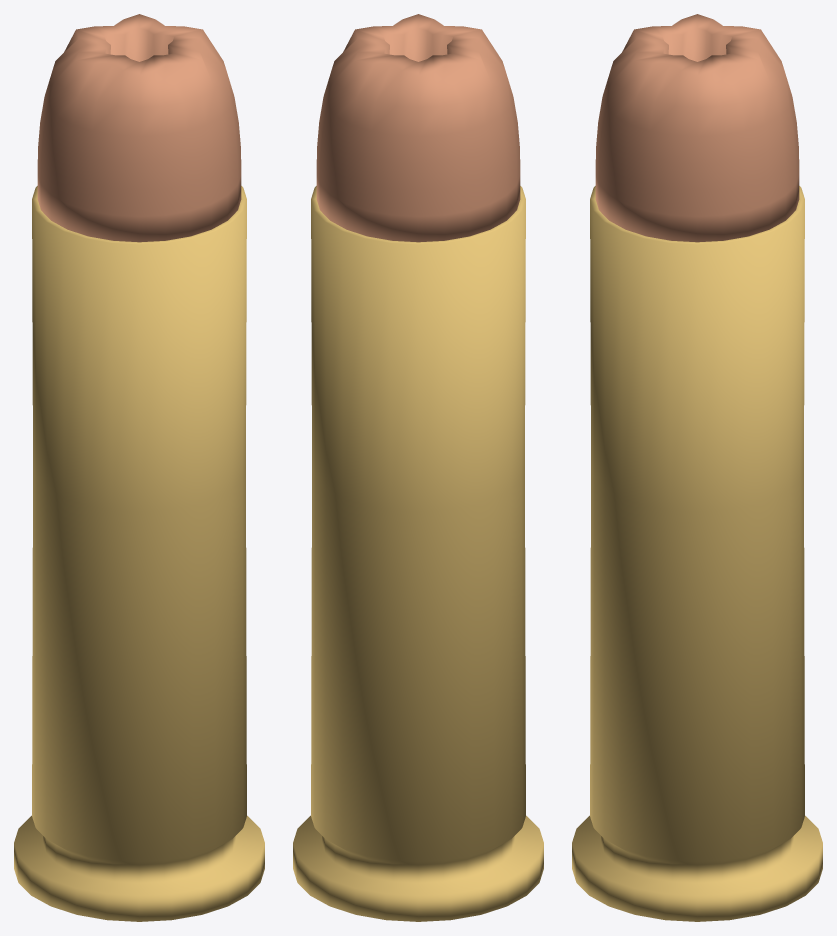
3 views of the same model, side by side, from view 1: azimuth 30°, elevation 25°; view 2: azimuth 150°, elevation 25°; view 3: azimuth 270°, elevation 25° (orthographic).
Visible parts, largest first — view 1: vaina, bala_hueca; view 2: vaina, bala_hueca; view 3: vaina, bala_hueca.
Boxes of the visible parts, x1,y1,x2,y2 form: vaina: (14, 186, 264, 921); bala_hueca: (37, 14, 241, 242); vaina: (293, 186, 543, 921); bala_hueca: (316, 14, 520, 242); vaina: (572, 186, 822, 921); bala_hueca: (595, 14, 799, 242).
Size of the model in its own units: 0.0112 by 0.0406 by 0.0112.
